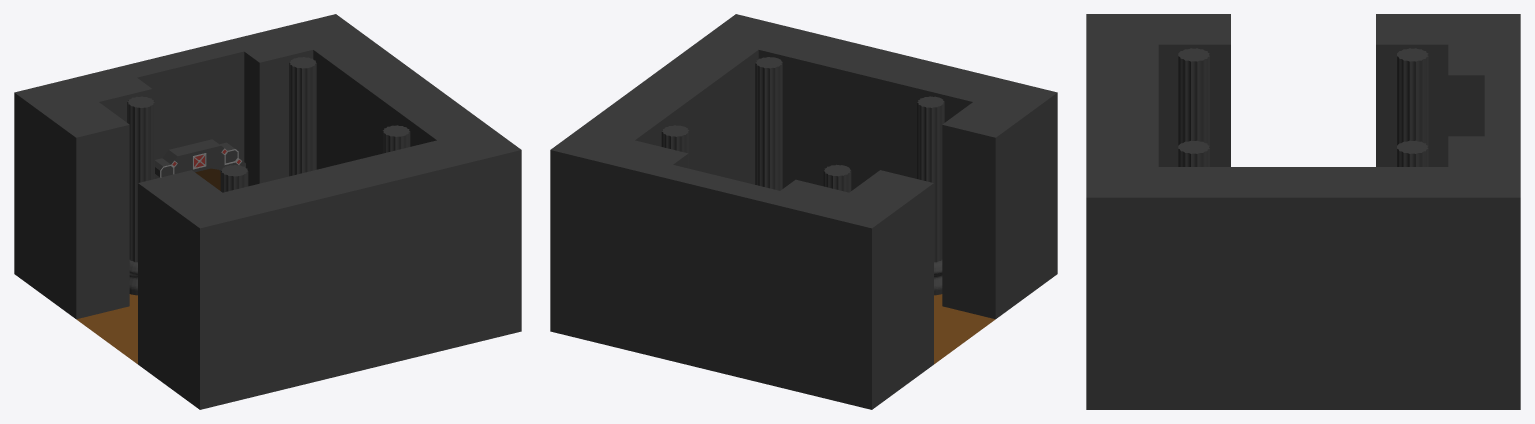
Rendered from End.fbx.
3 views of the same model, side by side, from view 1: azimuth 30°, elevation 25°; view 2: azimuth 150°, elevation 25°; view 3: azimuth 270°, elevation 25° (orthographic). The views are drawn at different scales.
Parts seen in each view (by area): view 1: End; view 2: End; view 3: End.
Part boxes in pixels (x1=…): End: x1=14, y1=14, x2=521, y2=409; End: x1=550, y1=14, x2=1057, y2=409; End: x1=1086, y1=14, x2=1520, y2=409.
Size of the model in its own units: 200 by 110 by 200.
